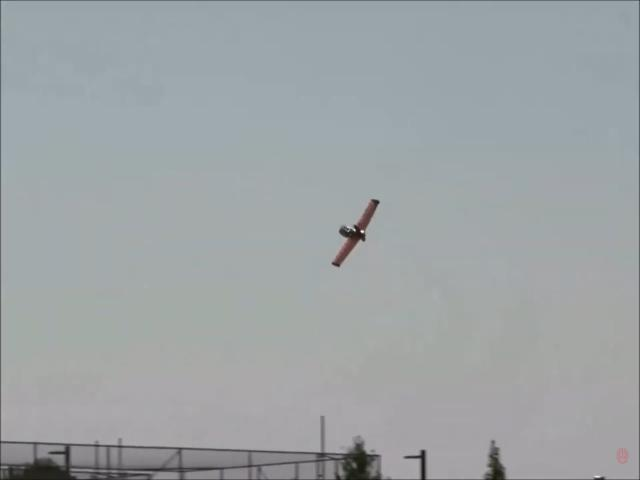insansiz-hava-araci: (332, 198, 379, 268)
